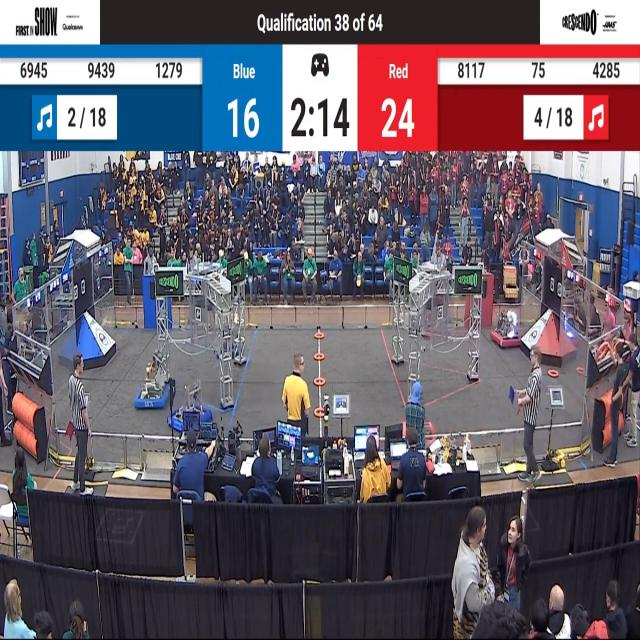Robot: (166, 373, 213, 437), (135, 351, 172, 414), (489, 300, 521, 350)
